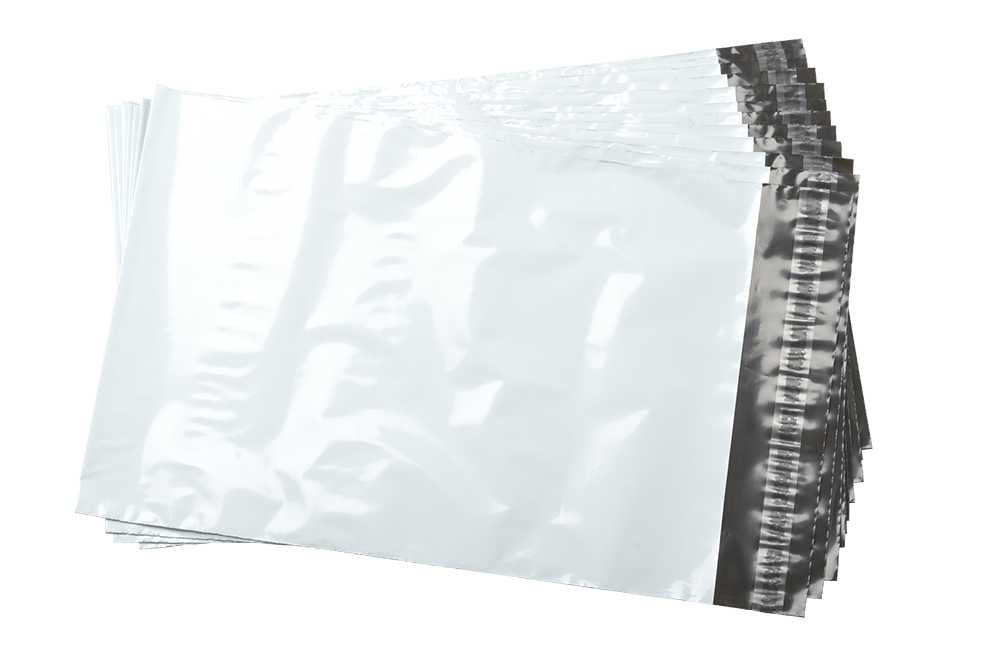Parcel: (79, 43, 871, 615)
